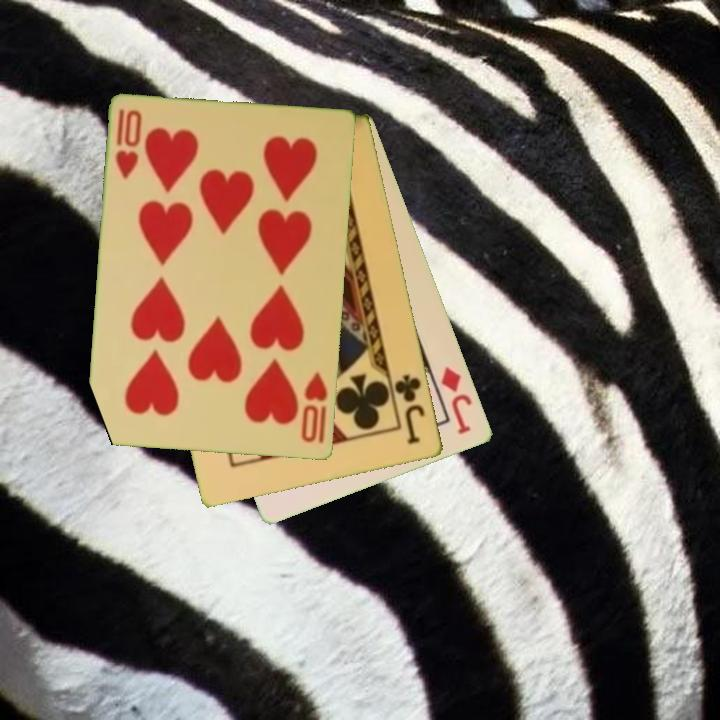10h: (298, 369, 331, 447), (112, 106, 145, 182)
Jc: (391, 371, 428, 448)
Jd: (438, 362, 476, 438)
